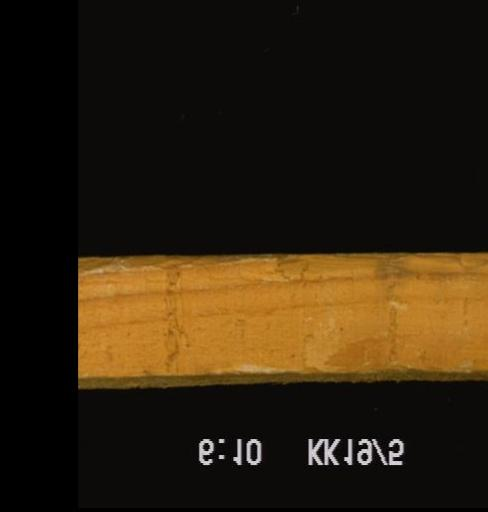wave: (78, 255, 274, 281)
